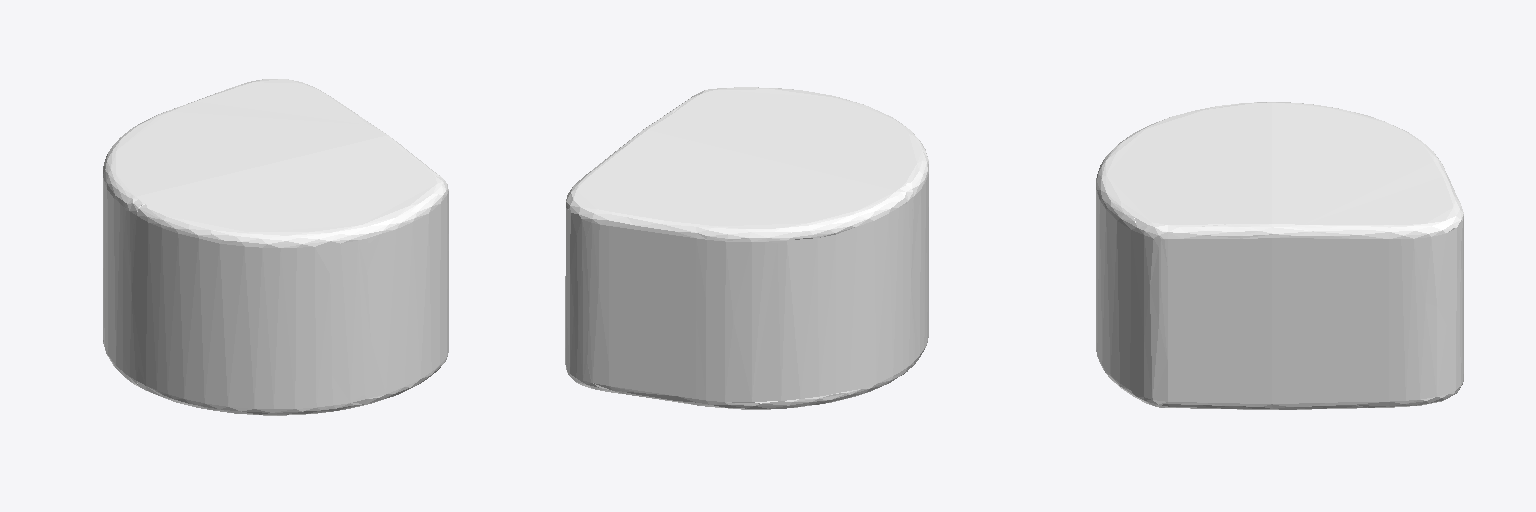
File: wrist_flex.obj
3 views of the same model, side by side, from view 1: azimuth 30°, elevation 25°; view 2: azimuth 150°, elevation 25°; view 3: azimuth 270°, elevation 25° (orthographic).
Size of the model in its own units: 0.6502 by 0.43 by 0.7744.